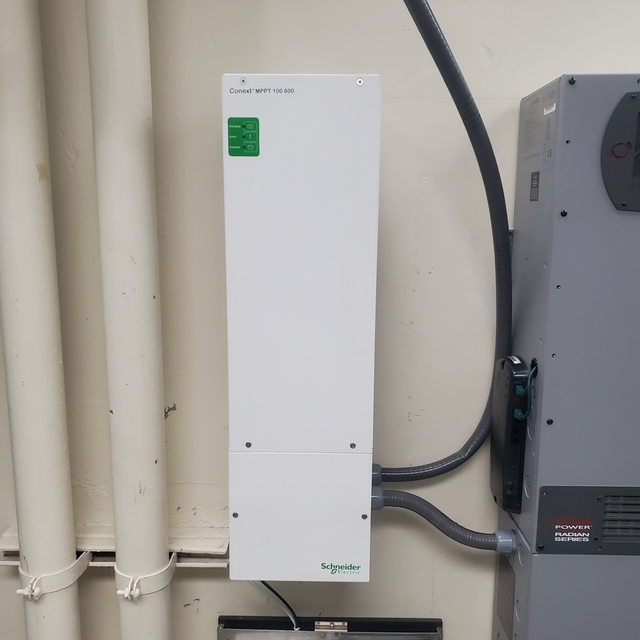charge_controller: (216, 66, 372, 582)
